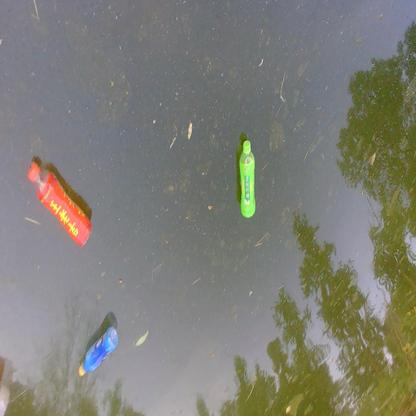plastic bottle: (26, 161, 92, 247), (78, 327, 119, 377), (238, 139, 257, 219)
